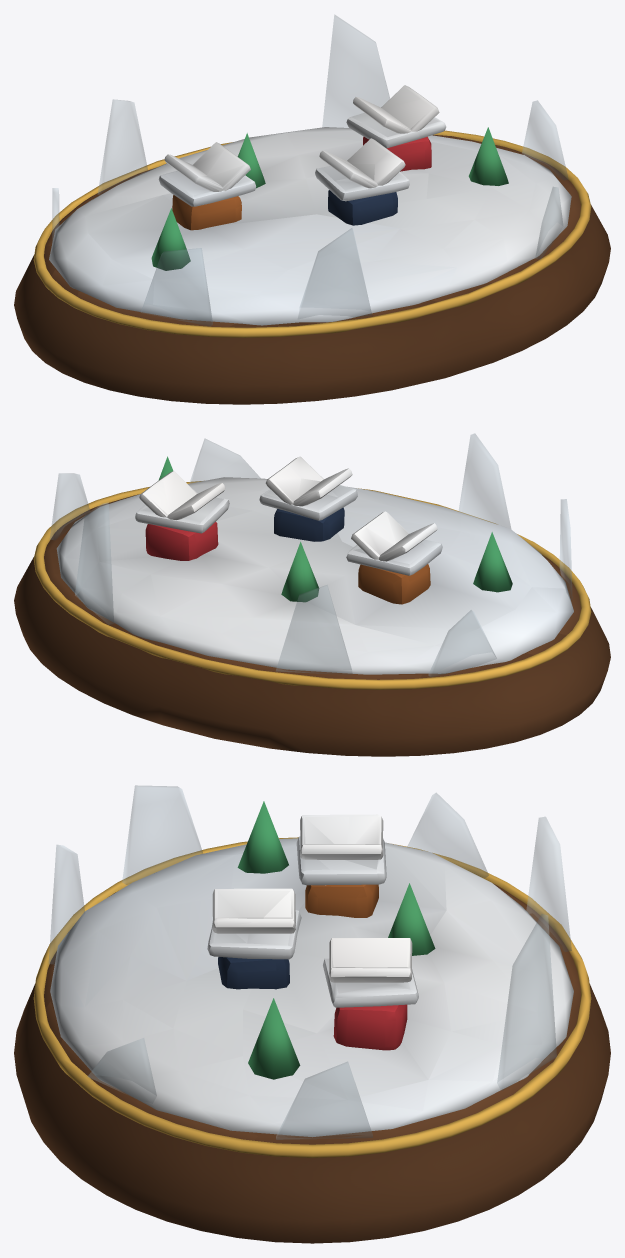
File: frost_globe_village_lod1.glb
The picture shows the model from 3 angles, top to bottom: view 1: azimuth 30°, elevation 25°; view 2: azimuth 150°, elevation 25°; view 3: azimuth 270°, elevation 25°; orthographic projection. The views are drawn at different scales.
Visible parts, largest first — view 1: frost_globe_village.001; view 2: frost_globe_village.001; view 3: frost_globe_village.001.
Part boxes in pixels (box(x1,y1,x2,y2)): frost_globe_village.001: box(14, 15, 610, 404); frost_globe_village.001: box(14, 433, 610, 756); frost_globe_village.001: box(14, 785, 610, 1243).
Size of the model in its own units: 9.21 by 3 by 6.91.
